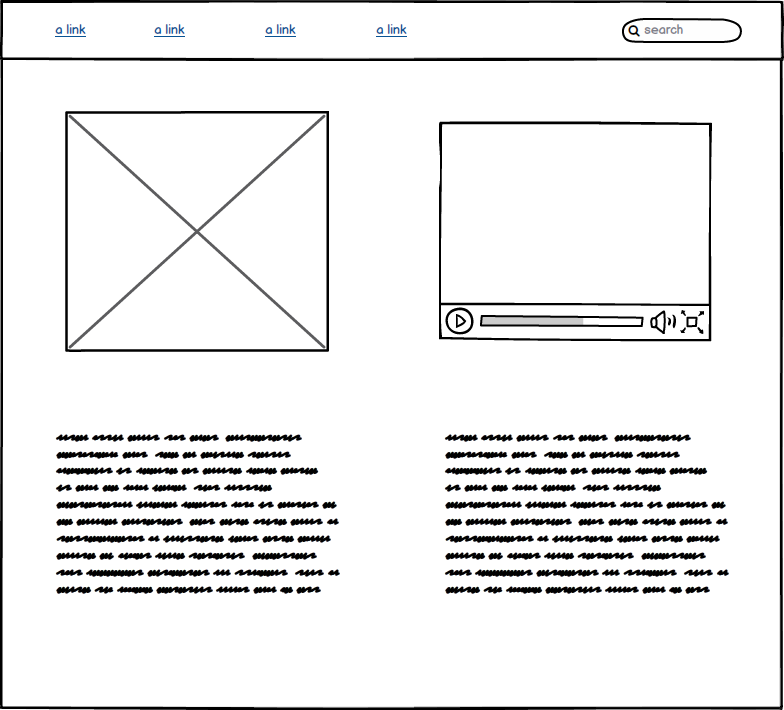image: (58, 104, 338, 356)
navlink: (48, 18, 93, 44), (258, 18, 303, 44), (369, 18, 412, 45), (149, 17, 190, 42)
p: (440, 427, 735, 603), (51, 430, 347, 601)
search: (616, 13, 747, 48)
video: (432, 116, 718, 346)
